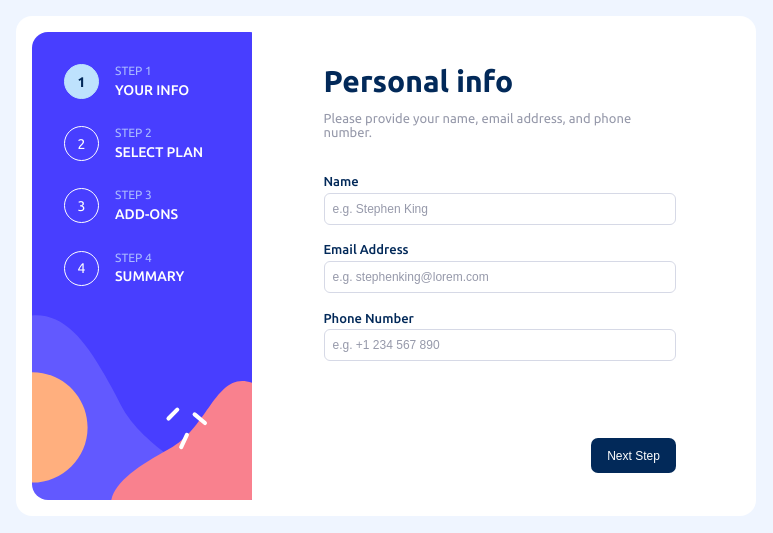
it: personal info page › should render an error message above any input field that is left blank after clicking on the next step
The image size is (773, 533).
Click the button "Next Step".
click(634, 456)  # box [591,438,676,473]
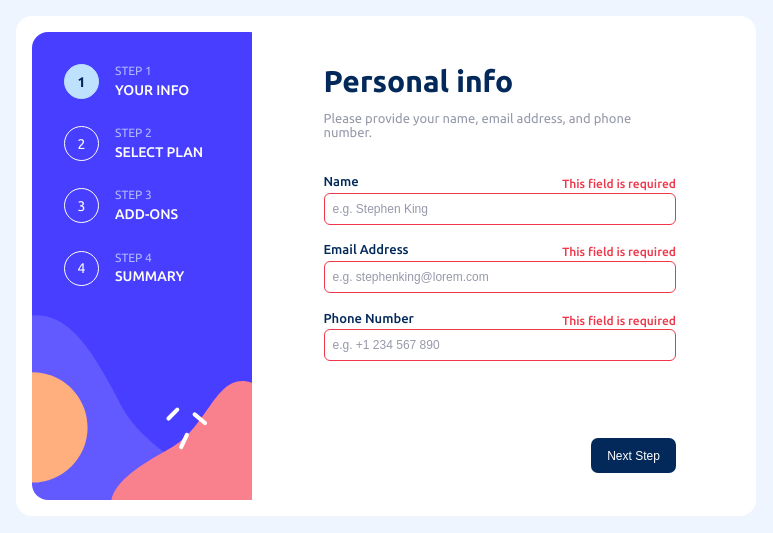
Expected: the text with test id "info-error-name" is shown, [562,177,676,190]
Expected: the text with test id "info-error-email" is shown, [562,245,676,258]
Expected: the text with test id "info-error-phone" is shown, [562,314,676,327]
Open "http://localhost:3000/multi-step-form/"
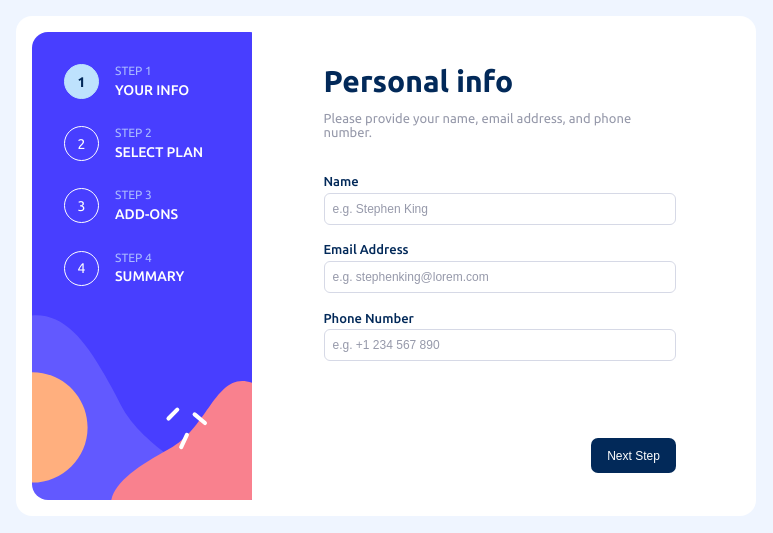
Type "stephenking@lorem.com" into the field with id "email".
click(501, 277); type("stephenking@lorem.com")  # box [324,261,677,293]
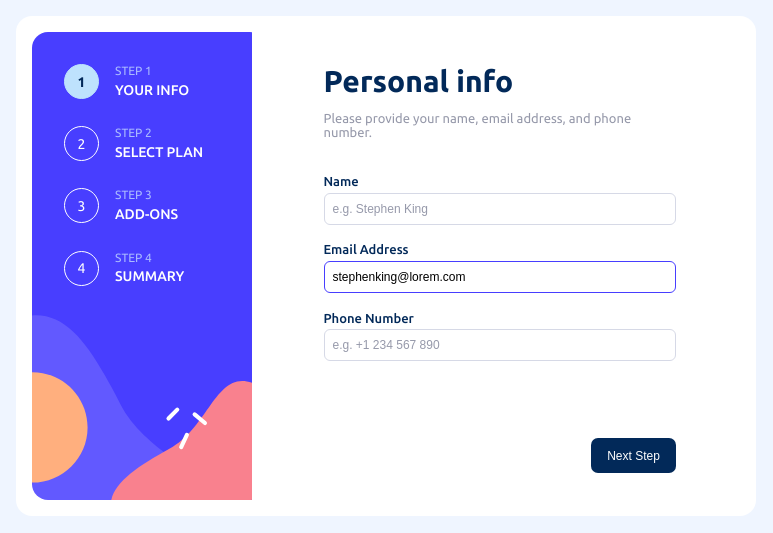
Click the button "Next Step".
click(634, 456)  # box [591,438,676,473]
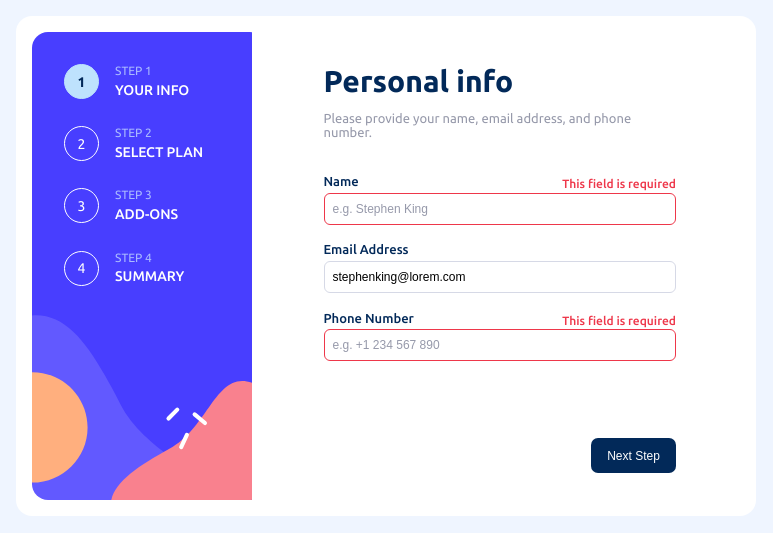
Expected: the text with test id "info-error-name" is shown, [562,177,676,190]
Expected: the text with test id "info-error-phone" is shown, [562,314,676,327]
